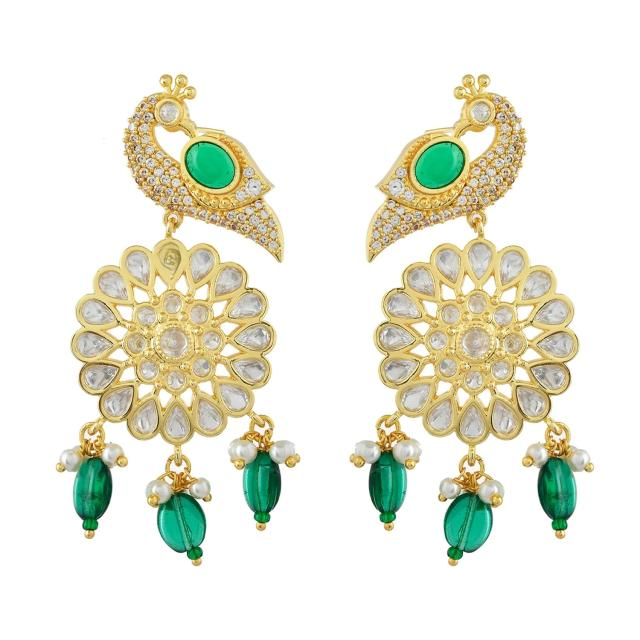missing gem: (158, 243, 180, 279)
